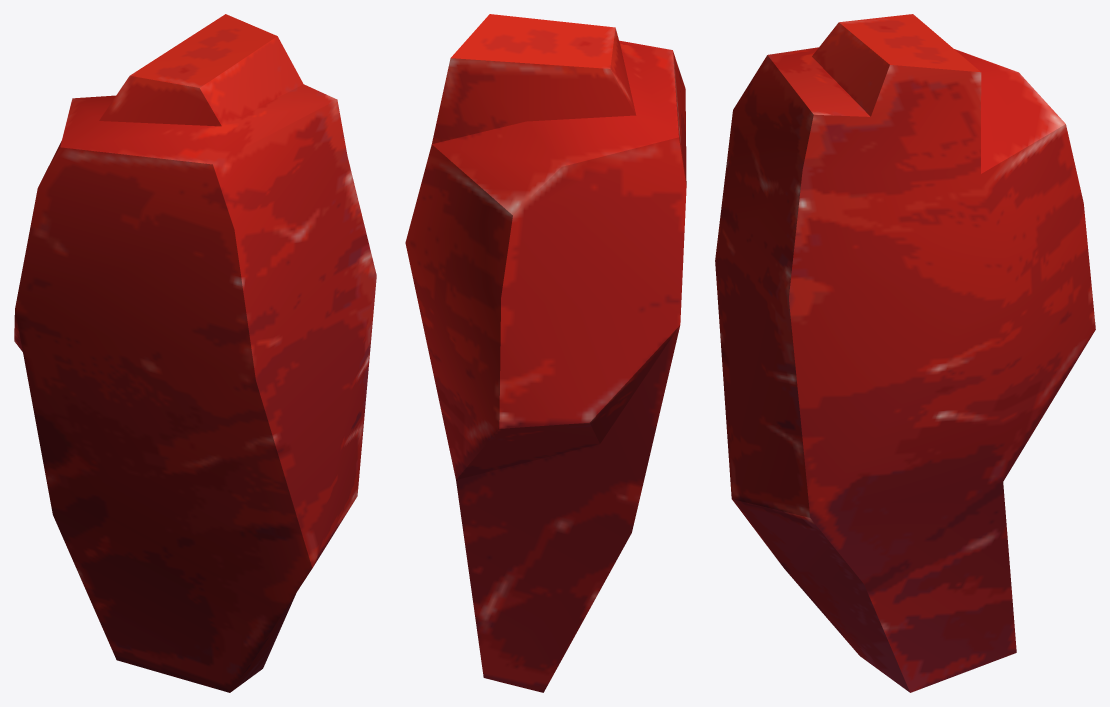
File: alchemist_crystal_01_4c101472.glb
3 views of the same model, side by side, from view 1: azimuth 30°, elevation 25°; view 2: azimuth 150°, elevation 25°; view 3: azimuth 270°, elevation 25° (orthographic). The views are drawn at different scales.
Size of the model in its own units: 0.7015 by 1.54 by 0.8449.
Materials: 1 (1 with a texture image).
